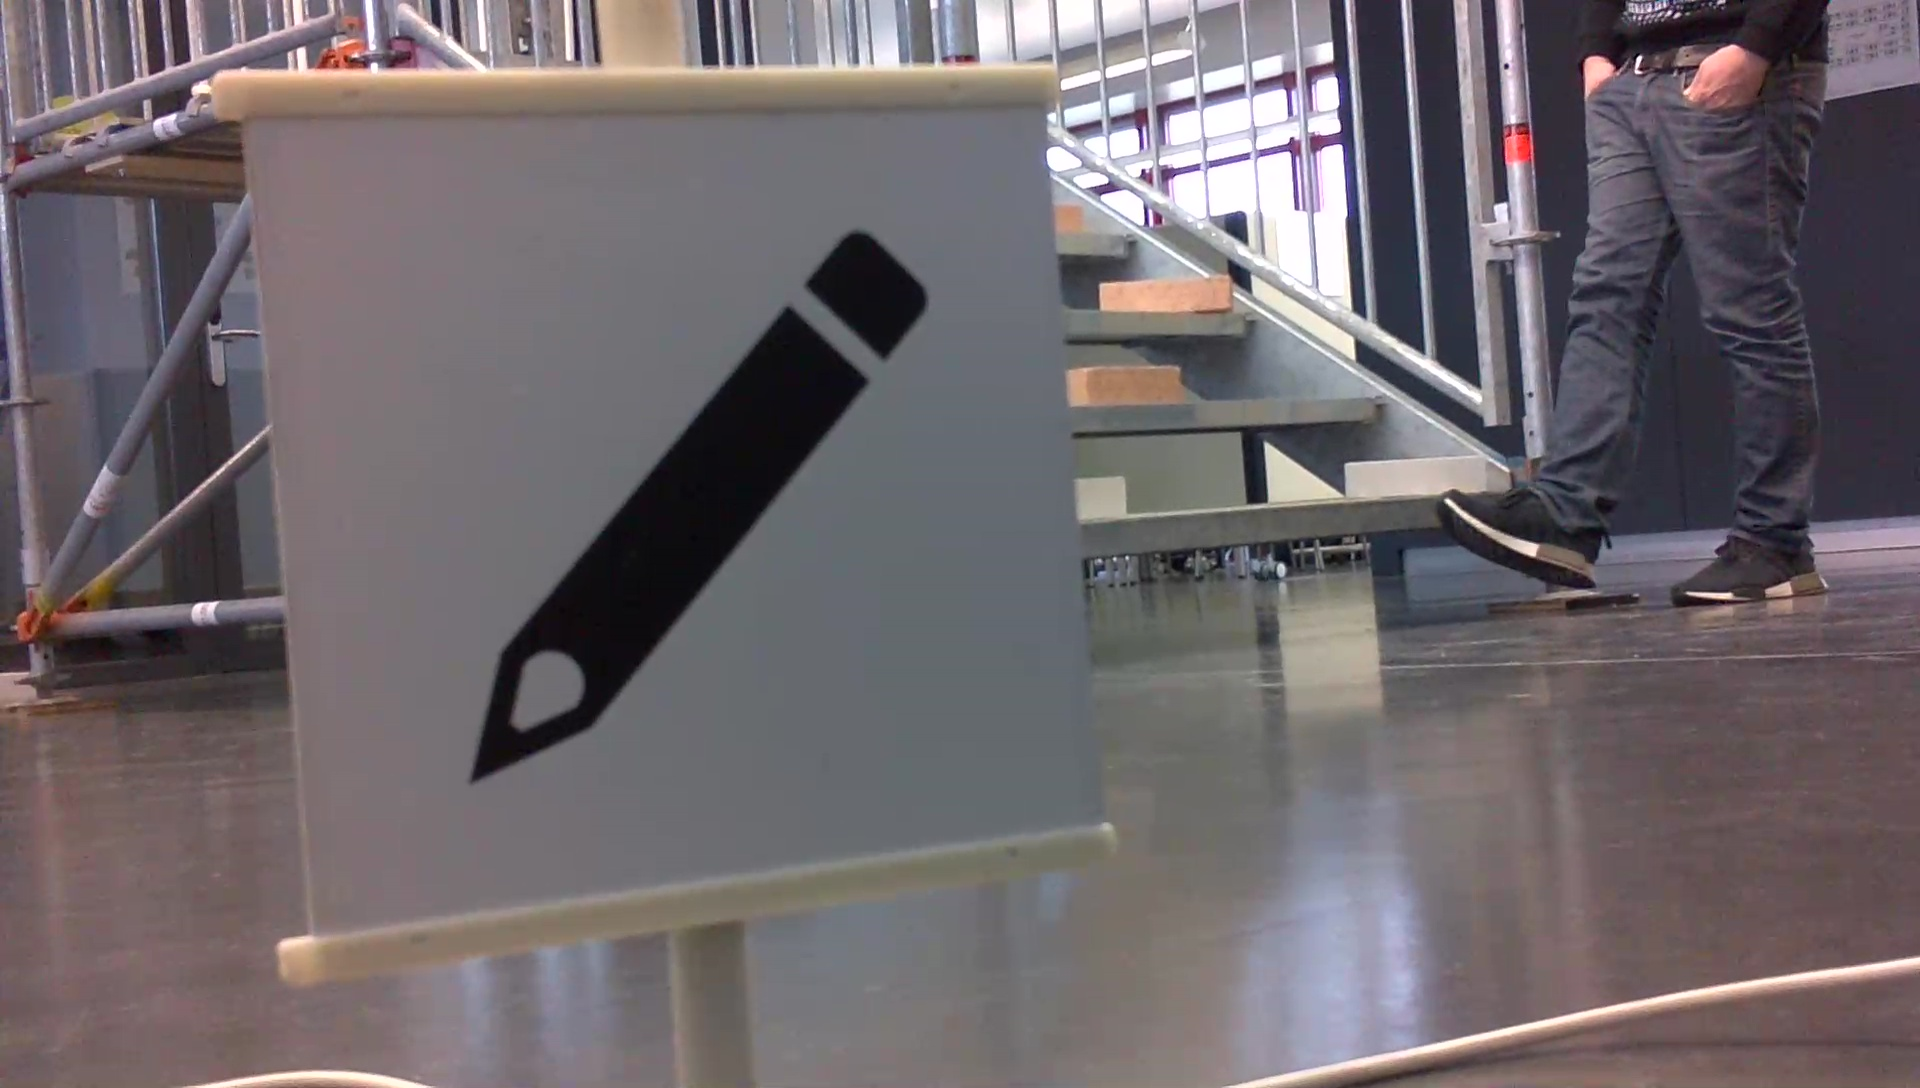brick: (1345, 454, 1482, 493), (1065, 368, 1178, 404), (1102, 278, 1228, 310), (1077, 477, 1122, 516), (1052, 206, 1077, 229)
edge: (1072, 393, 1387, 430), (1064, 309, 1255, 338), (1055, 231, 1141, 256)
pencil: (451, 216, 947, 801)
